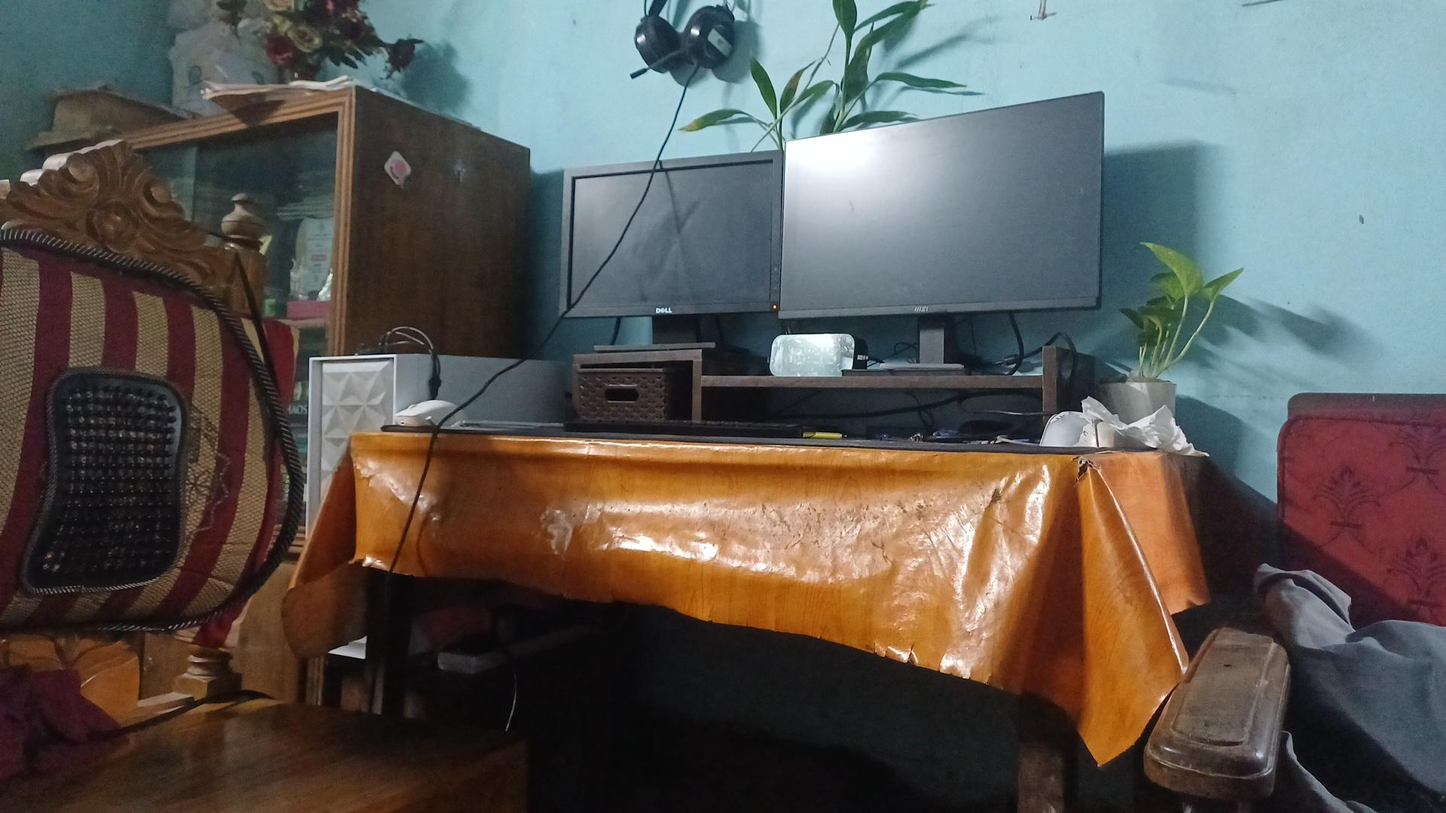Chair: (27, 121, 438, 795)
Clock: (765, 323, 878, 388)
Monitor: (762, 110, 1119, 317), (535, 147, 771, 322)
Mouse: (1037, 393, 1124, 469), (391, 377, 474, 430)
Plant: (1116, 239, 1205, 461)
